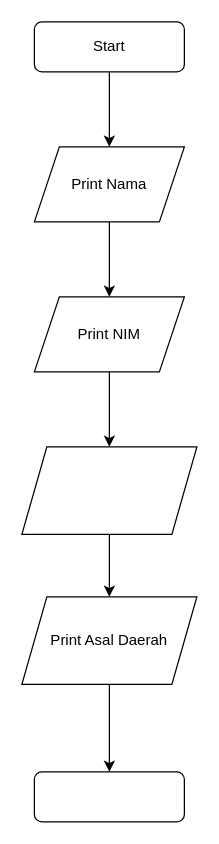
Image size: 219x844. Some labels were removed from this diagram. The shapes that lost their labels are listed below. From the top down, each one's centre as x and y in pixels, then its label:
point 109,490: Print Program Studi
point 108,796: Finish
